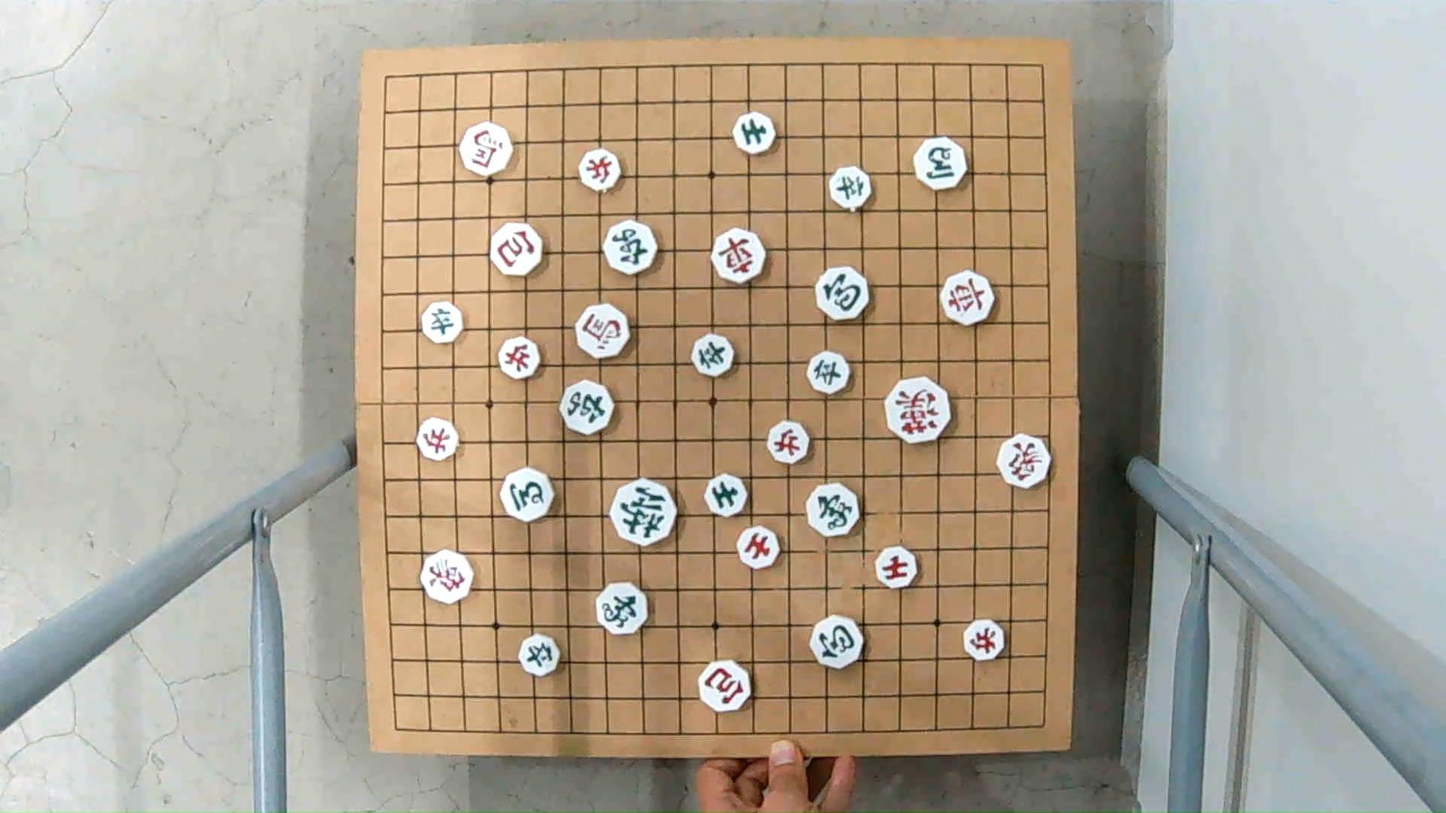cha_green: (560, 379, 614, 432), (605, 221, 658, 273)
cha_red: (711, 230, 768, 281), (940, 272, 997, 322)
jol_green: (828, 167, 875, 209), (693, 335, 737, 376), (804, 352, 850, 391), (517, 636, 563, 674), (421, 303, 462, 342)
jol_red: (496, 335, 540, 380), (416, 417, 458, 462), (576, 150, 622, 189), (766, 422, 813, 460), (962, 621, 1003, 662)
ma_green: (499, 470, 557, 519), (913, 139, 969, 189)
ma_red: (575, 305, 630, 359), (459, 124, 514, 174)
po_green: (814, 268, 871, 320), (809, 618, 865, 668)
po_red: (488, 223, 544, 273), (695, 662, 752, 709)
sa_green: (731, 113, 776, 153), (706, 475, 748, 514)
sa_red: (735, 527, 782, 567), (873, 548, 919, 587)
sang_green: (805, 485, 862, 533), (597, 582, 648, 635)
sang_red: (994, 434, 1054, 486), (419, 551, 476, 601)
wang_green: (610, 482, 679, 544)
wang_red: (885, 379, 951, 443)
